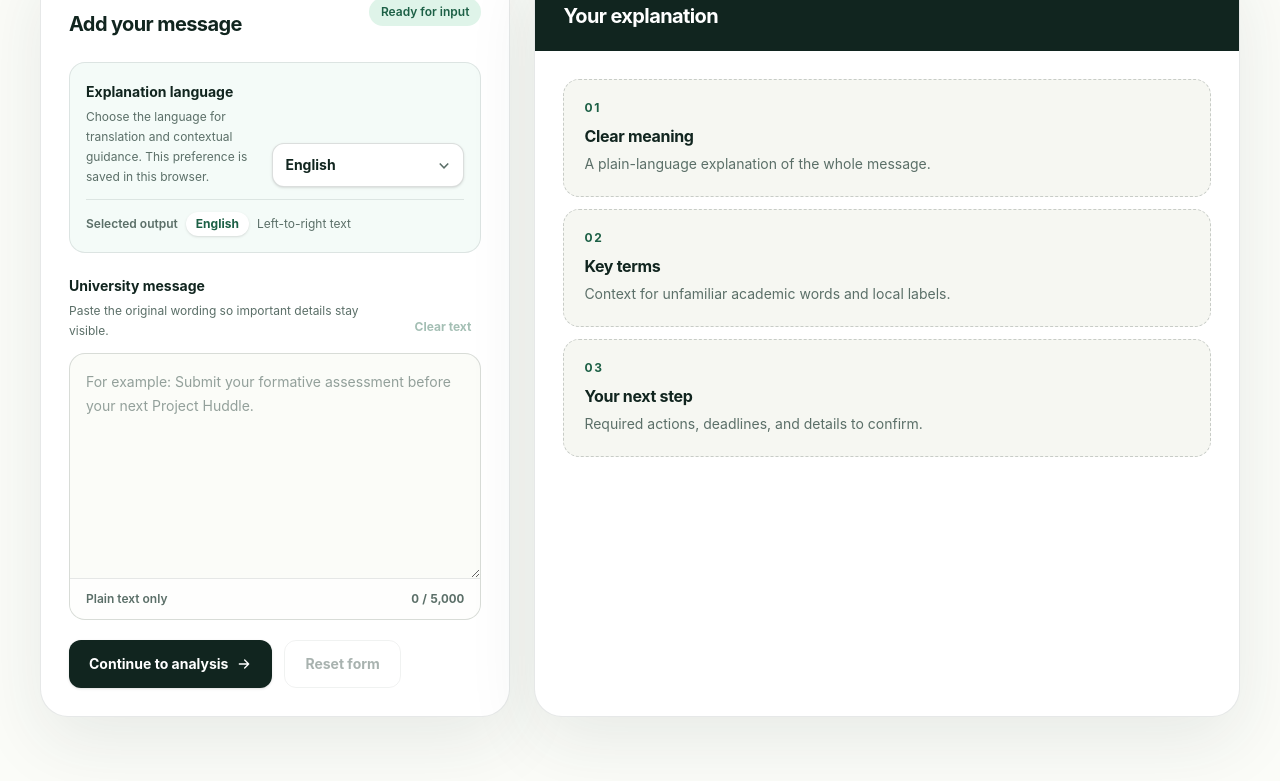
initial analysis workflow › shows a useful message when the API cannot be reached
(page scrolled)
Step 1. Type "Submit your formative assessment before your next Project Huddle." into the text box labelled "University message" → (275,466), box [70, 354, 480, 578]
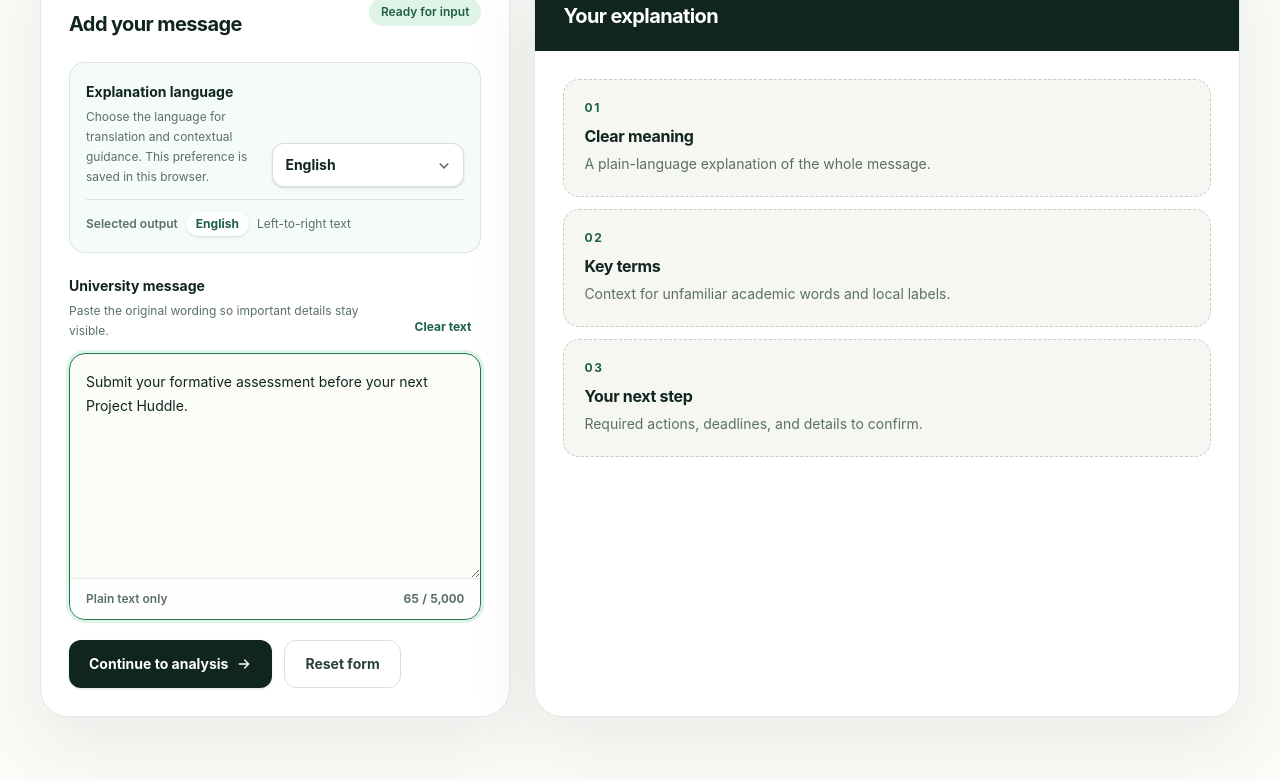
Step 2. Click the button "Continue to analysis" → (171,664), box [69, 640, 272, 688]
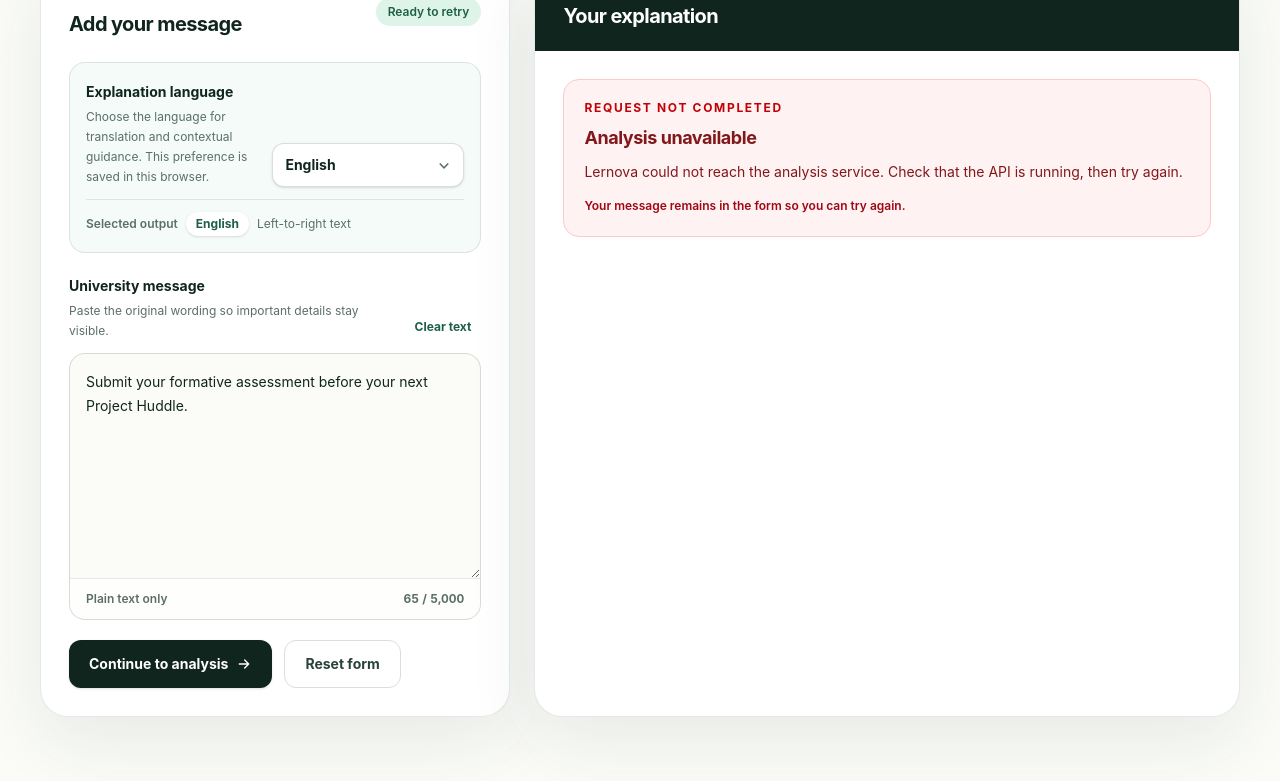
Now the message shows "Lernova could not reach the analysis service. Check that the API is running, then try again.", box [584, 163, 1183, 180]
